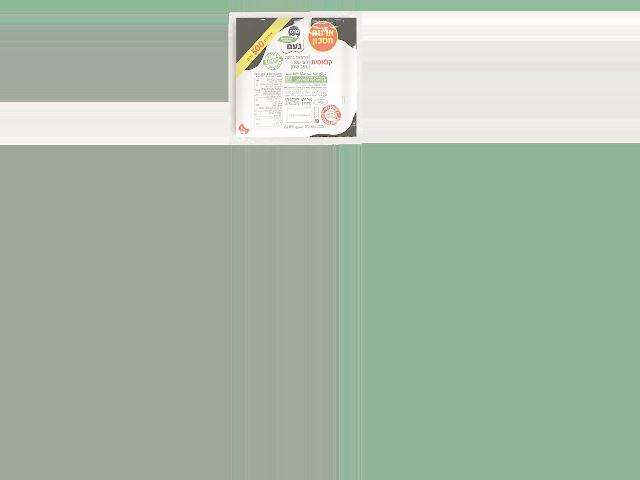cheese: (229, 20, 358, 133)
